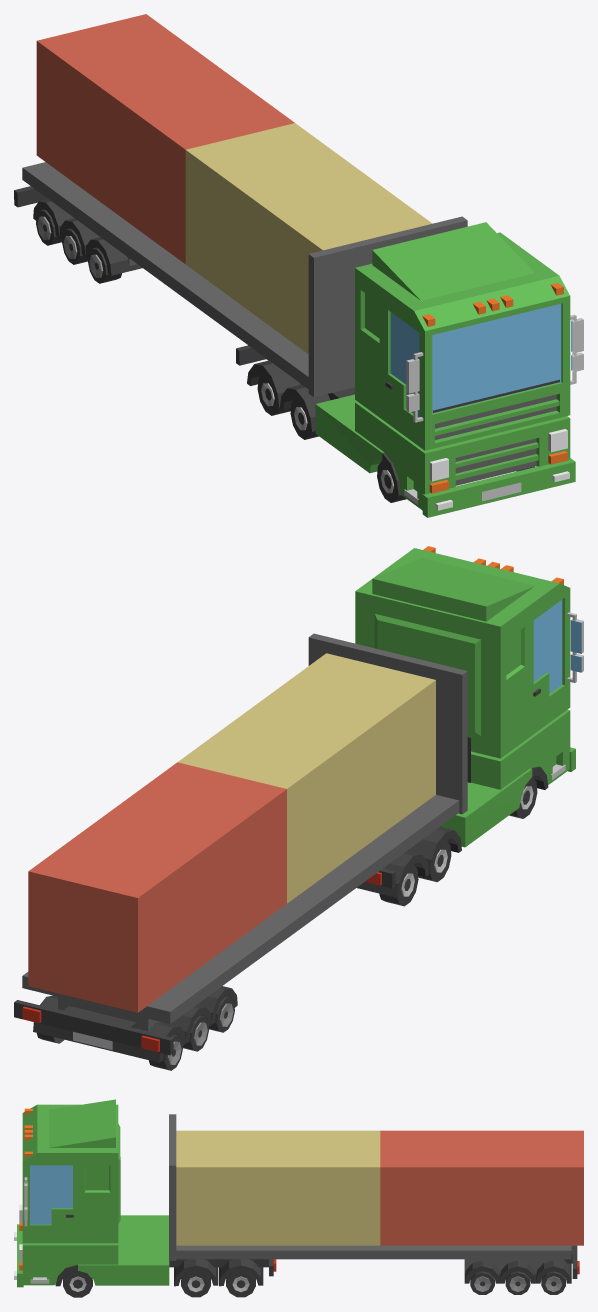
The model's file is Truck_3.fbx.
3 renders of one model, top to bottom at view 1: azimuth 30°, elevation 25°; view 2: azimuth 150°, elevation 25°; view 3: azimuth 270°, elevation 25°, orthographic. The views are drawn at different scales.
Parts seen in each view (by area): view 1: Truck_3; view 2: Truck_3; view 3: Truck_3.
Part boxes in pixels (x1,y1,x2,y2): Truck_3: (14, 14, 583, 517); Truck_3: (14, 546, 583, 1070); Truck_3: (14, 1099, 583, 1297).
Size of the model in its own units: 1.04 by 1.3 by 4.29.
